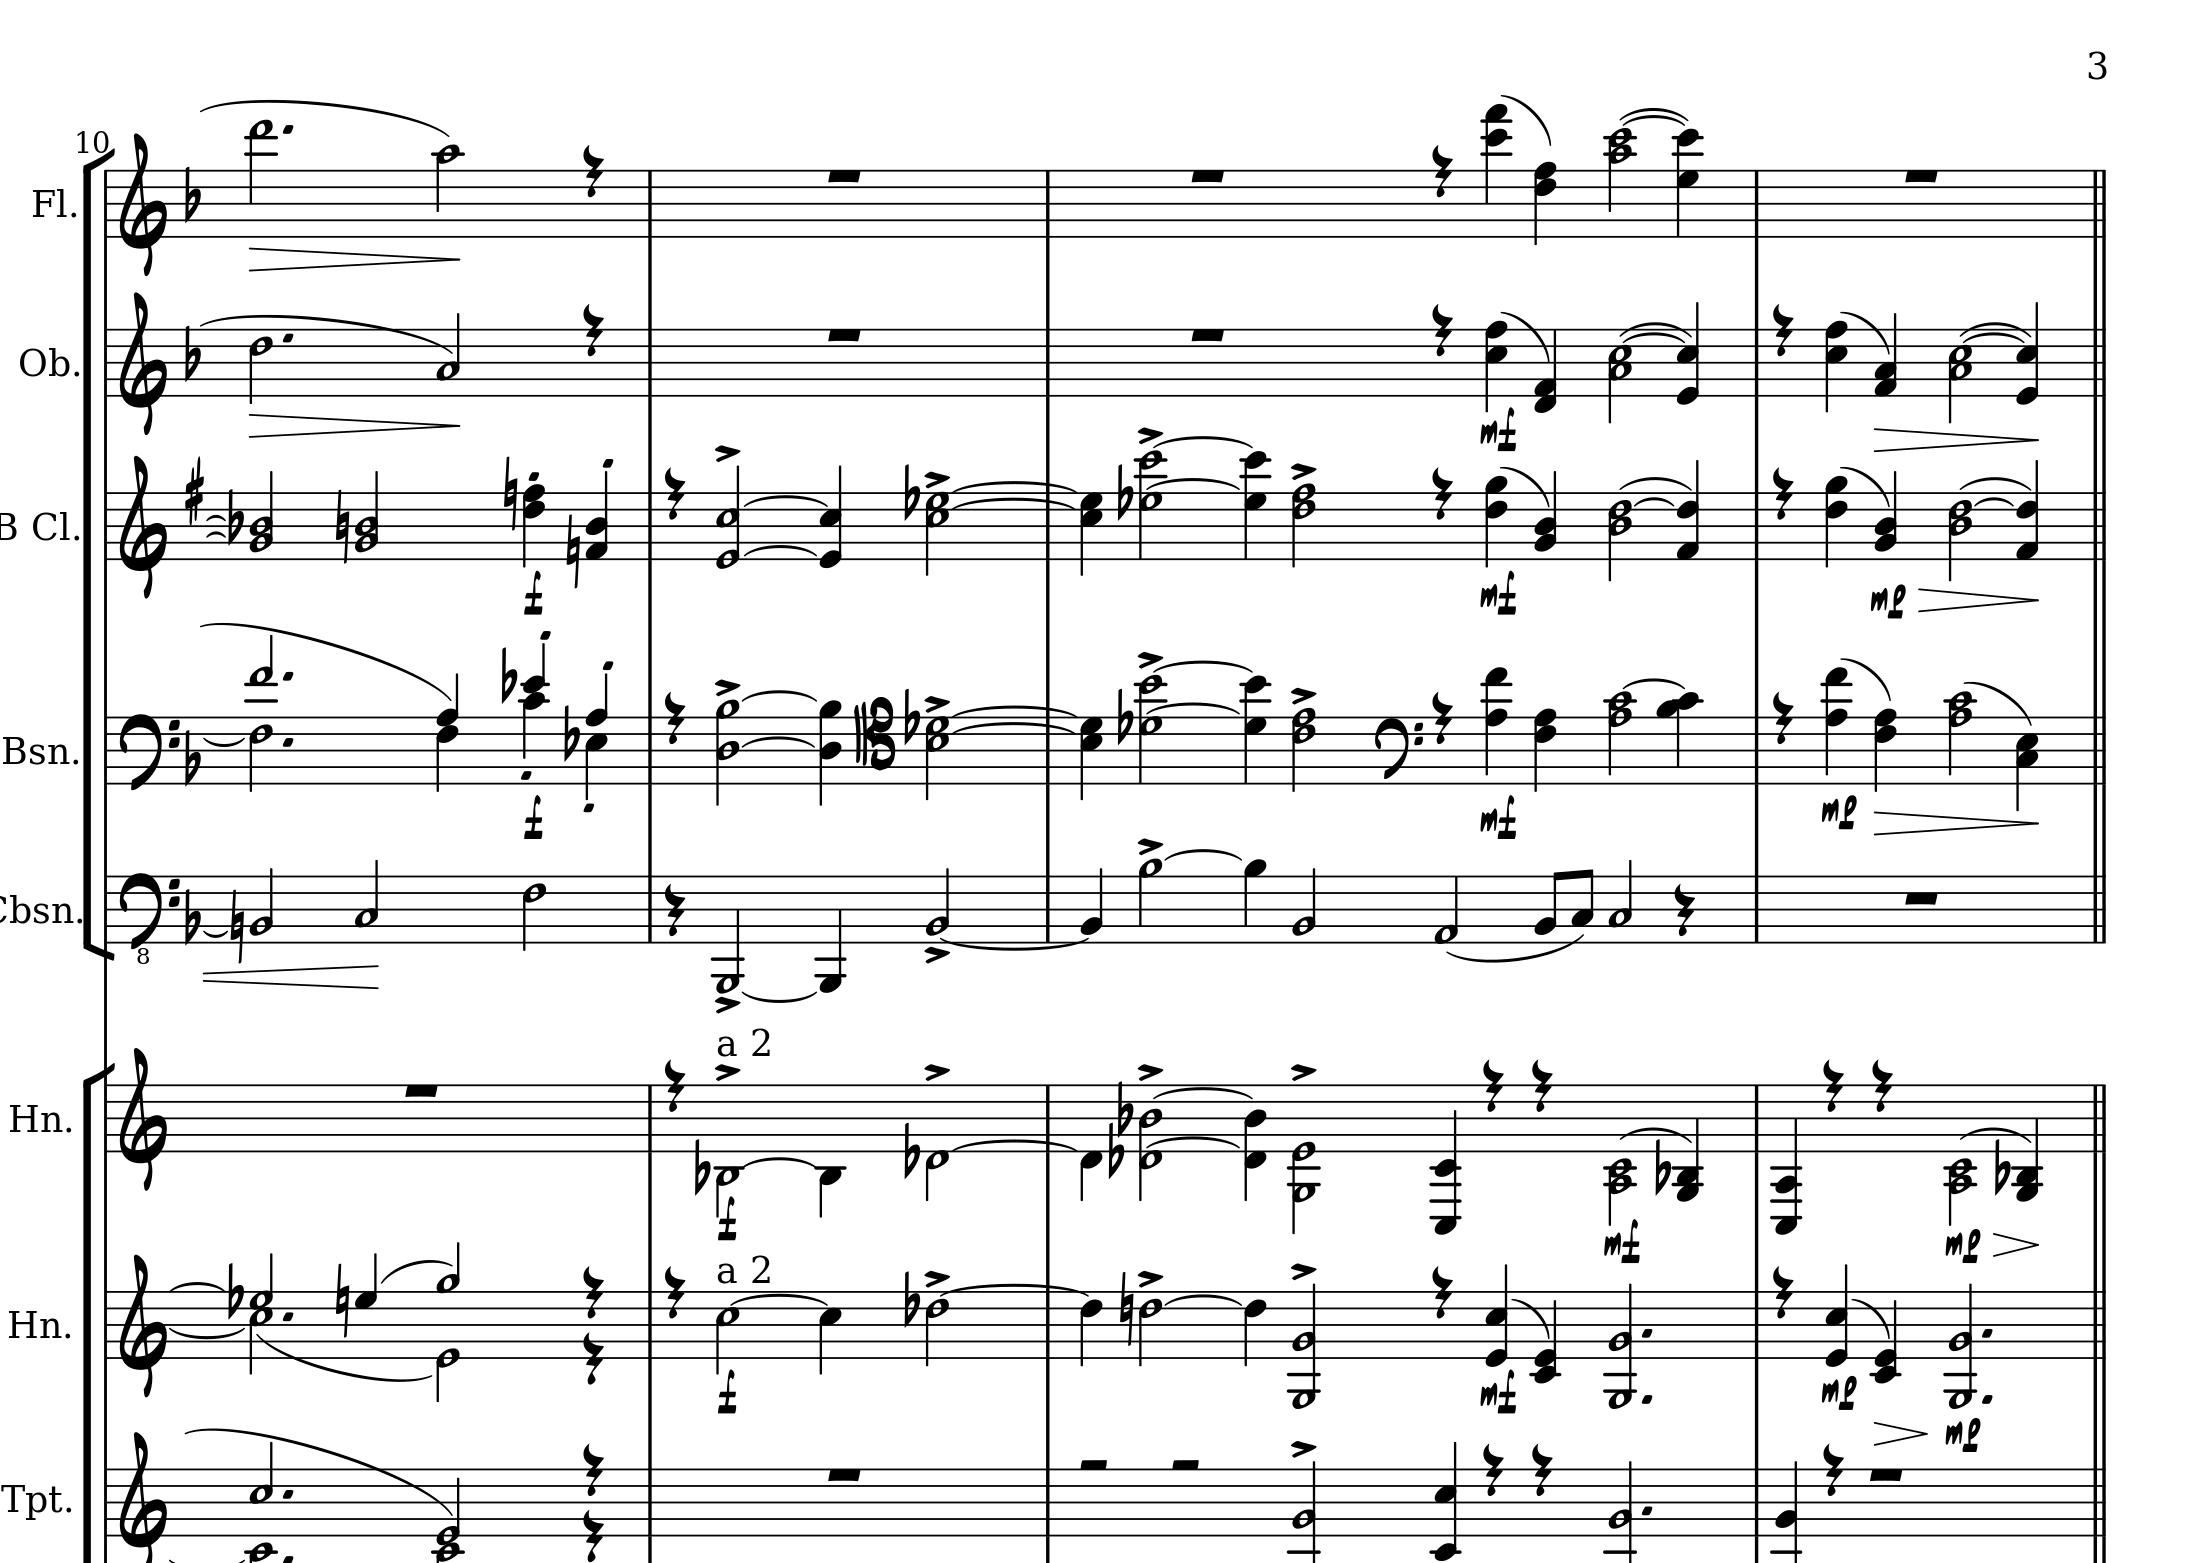0: (91, 127, 108, 154)
1: (74, 129, 90, 156)
2: (748, 1027, 771, 1057), (749, 1253, 771, 1282)
2_-1: (924, 1081, 951, 1203)
2_-1_4: (1137, 1083, 1164, 1196)
2_-4: (716, 1083, 743, 1208)
2_-5: (712, 873, 744, 991)
2_-5_0: (1287, 1083, 1323, 1235)
2_-5_2: (1287, 1282, 1323, 1409), (1944, 1282, 1978, 1411), (1605, 1282, 1639, 1409)
2_0_5: (716, 465, 741, 572)
2_0_9: (435, 1242, 462, 1399)
2_1: (1433, 873, 1462, 947)
2_10: (433, 140, 464, 240)
2_13: (245, 117, 276, 240)
2_2: (1291, 864, 1318, 946), (925, 864, 952, 944), (249, 864, 274, 946)
2_2_4: (352, 470, 381, 563), (247, 470, 274, 562)
2_3: (435, 310, 464, 399), (354, 858, 381, 946), (1607, 858, 1634, 946)
2_3_5: (1607, 326, 1636, 425), (1947, 325, 1974, 423)
2_4_6: (1605, 489, 1636, 582), (1949, 491, 1974, 582)
2_4_9: (712, 699, 741, 805)
2_5: (716, 1289, 741, 1374)
2_5_7: (247, 1252, 276, 1374)
2_6: (924, 1289, 951, 1368), (249, 328, 274, 406), (521, 875, 546, 952), (1138, 1289, 1162, 1367)
2_6_13: (244, 633, 277, 795)
2_6_8: (1291, 482, 1318, 570)
2_7_12: (1132, 450, 1171, 562), (1130, 673, 1167, 785)
2_8_10: (1602, 690, 1638, 787), (1942, 688, 1978, 783)
2_9: (1135, 858, 1164, 946)
3: (2088, 47, 2108, 81)
4_-1_4: (1242, 1081, 1270, 1203)
4_-2_0: (1528, 1291, 1563, 1385), (1873, 1291, 1905, 1384)
4_-2_5: (1426, 1441, 1463, 1561)
4_-3: (815, 1079, 846, 1220)
4_-5: (815, 873, 848, 993)
4_-5_-3: (2011, 1084, 2045, 1204), (1671, 1083, 1705, 1203)
4_-9_-2: (1428, 1083, 1463, 1238)
4_-9_-4: (1768, 1083, 1802, 1238)
4_0_5: (2011, 303, 2042, 408), (1482, 1264, 1512, 1368), (1820, 1264, 1851, 1367), (1675, 304, 1702, 406), (819, 463, 844, 570)
4_10_12: (519, 643, 550, 788)
4_1_3: (1873, 310, 1900, 399)
4_1_4: (584, 469, 611, 563)
4_1_6: (2013, 460, 2042, 563), (1675, 457, 1702, 563)
4_2: (1079, 864, 1106, 946)
4_2_4: (1873, 470, 1900, 563), (1533, 470, 1560, 562)
4_3_5: (2015, 714, 2038, 812)
4_4_9: (815, 695, 846, 803)
4_5: (819, 1287, 842, 1375)
4_5_7: (1078, 491, 1106, 577), (1078, 716, 1106, 798)
4_5_8: (584, 672, 611, 800), (1484, 320, 1512, 409), (1824, 316, 1849, 414)
4_6: (1242, 1287, 1269, 1368), (1078, 1289, 1105, 1368)
4_6_8: (435, 673, 462, 793), (519, 480, 550, 572), (1531, 707, 1560, 793), (1873, 705, 1900, 797)
4_6_9: (1482, 474, 1511, 575), (1824, 474, 1851, 570)
4_7: (354, 1250, 379, 1358)
4_7_12: (1237, 450, 1274, 563), (1235, 675, 1272, 787)
4_8_13: (1820, 663, 1854, 785), (1482, 665, 1514, 787)
4_9: (1242, 858, 1269, 946)
4_9_10: (1656, 688, 1707, 785)
8_-1: (1079, 1081, 1105, 1204)
8_2: (1531, 869, 1561, 946)
8_3: (1570, 866, 1594, 946)
Accent_above: (1133, 421, 1166, 443), (1135, 646, 1166, 668), (712, 440, 741, 462), (1287, 458, 1318, 479), (920, 467, 951, 487), (1287, 1260, 1318, 1281), (712, 677, 741, 697), (1289, 683, 1318, 704), (922, 1061, 951, 1081), (1135, 1061, 1164, 1081), (922, 1267, 951, 1287), (1289, 1436, 1318, 1456), (1135, 1267, 1162, 1287), (922, 692, 951, 710), (712, 1061, 741, 1079), (1289, 1061, 1318, 1079), (922, 946, 952, 962), (712, 996, 743, 1013), (1137, 836, 1164, 854)
Bracke: (80, 151, 118, 961)
Bsn: (2, 727, 73, 775)
Cl: (30, 506, 73, 546)
Crescendo_hairpin: (1917, 585, 2042, 612)
Diminuendo_hairpin: (1871, 810, 2040, 837), (1873, 1419, 1927, 1446)
Double_barline: (2086, 169, 2111, 237), (2086, 716, 2111, 783), (2086, 875, 2111, 942), (2086, 1467, 2111, 1534), (2086, 492, 2111, 558), (2088, 328, 2111, 396), (2088, 1291, 2110, 1357)
Fclef: (118, 710, 179, 793), (1372, 714, 1424, 787)
Fermata_above: (1993, 1231, 2040, 1257)
Final_barline: (2088, 1084, 2111, 1150)
Fl: (29, 184, 69, 223)
Flat: (181, 321, 203, 382), (183, 727, 205, 788), (1115, 685, 1135, 749), (1115, 462, 1135, 524), (181, 162, 201, 223), (183, 885, 203, 946), (562, 700, 580, 765), (902, 462, 920, 523), (902, 1120, 920, 1181), (902, 1269, 920, 1330), (902, 687, 920, 746), (1653, 1137, 1671, 1196), (501, 643, 518, 705), (1106, 1120, 1123, 1182), (227, 1260, 244, 1323), (1115, 1079, 1133, 1135), (227, 485, 244, 546), (1993, 1137, 2010, 1198), (694, 1138, 710, 1196)
Gclef: (117, 289, 169, 436), (117, 453, 169, 599), (117, 130, 167, 277), (118, 1252, 169, 1399), (118, 1045, 169, 1191), (118, 1429, 169, 1563)
Hn: (10, 1100, 64, 1137), (7, 1306, 63, 1341)
Lower_Fclef: (118, 869, 179, 968)
Natural: (563, 511, 582, 589), (502, 453, 519, 535), (333, 1260, 350, 1341), (333, 485, 350, 565), (228, 886, 245, 964), (1118, 1270, 1133, 1346)
Ob: (19, 343, 73, 381)
Rests1: (1186, 325, 1230, 347), (824, 325, 866, 347), (399, 1079, 442, 1101), (824, 1463, 866, 1485), (1186, 166, 1230, 186), (1900, 166, 1944, 186), (1900, 888, 1942, 908), (824, 166, 864, 186), (1866, 1463, 1907, 1483)
Rests2: (1076, 1453, 1111, 1477), (1167, 1453, 1204, 1475)
Rests4: (1670, 880, 1698, 939), (1528, 1057, 1555, 1115), (1819, 1057, 1846, 1115), (1528, 1441, 1555, 1499), (1429, 463, 1455, 523), (1769, 463, 1795, 523), (661, 688, 687, 748), (1429, 688, 1455, 748), (1769, 688, 1795, 748), (1869, 1056, 1895, 1115), (580, 1330, 606, 1389), (1771, 1264, 1797, 1323), (1429, 301, 1455, 359), (1769, 301, 1795, 359), (661, 465, 687, 523), (661, 881, 687, 939), (1480, 1057, 1506, 1115), (661, 1264, 687, 1321), (1480, 1441, 1506, 1499), (1820, 1441, 1846, 1499), (580, 144, 606, 200), (1429, 144, 1455, 200), (580, 303, 606, 359), (580, 1441, 606, 1497), (580, 1264, 606, 1319), (580, 1507, 606, 1563), (1431, 1264, 1455, 1323), (663, 1057, 687, 1113)
Sharp: (183, 453, 205, 526)
Single_barline: (1747, 1467, 1769, 1536), (1747, 326, 1768, 396), (98, 875, 117, 947), (639, 169, 660, 235), (639, 328, 660, 394), (1747, 1291, 1768, 1357), (1747, 169, 1766, 237), (1039, 328, 1057, 396), (1747, 875, 1766, 942), (1039, 1084, 1057, 1152), (1039, 169, 1057, 235), (1747, 716, 1766, 781), (1039, 875, 1057, 941), (1747, 1084, 1766, 1150), (1040, 1292, 1059, 1358), (641, 1468, 660, 1534), (1039, 1468, 1057, 1534), (100, 1083, 117, 1152), (98, 169, 115, 237), (98, 328, 115, 396), (1749, 491, 1766, 558), (100, 1291, 117, 1358), (643, 716, 660, 781), (641, 875, 658, 941), (641, 1084, 658, 1150), (100, 1468, 117, 1534), (100, 717, 117, 781), (641, 1291, 658, 1355), (98, 491, 113, 558), (643, 492, 658, 557)
Slur: (198, 621, 455, 704), (200, 98, 450, 140), (200, 315, 450, 357), (252, 1331, 431, 1384), (1445, 934, 1585, 961), (1964, 678, 2033, 726), (1499, 91, 1551, 145), (1499, 308, 1551, 360), (1837, 656, 1895, 700), (941, 1282, 1089, 1299), (1841, 308, 1891, 355), (1839, 463, 1891, 507), (1501, 463, 1551, 507), (381, 1259, 453, 1284), (1511, 1294, 1551, 1338), (947, 479, 1078, 492), (947, 704, 1078, 717), (1851, 1294, 1891, 1336), (951, 721, 1076, 734), (951, 939, 1088, 951), (951, 497, 1078, 509), (1961, 1123, 2033, 1143), (952, 1138, 1074, 1150), (1150, 435, 1255, 448), (1150, 1086, 1255, 1100), (726, 1291, 831, 1304), (1154, 660, 1255, 673), (1621, 1125, 1693, 1143), (1144, 700, 1242, 714), (1961, 475, 2035, 492), (1961, 318, 2032, 335), (743, 494, 831, 507), (1144, 479, 1243, 491), (1622, 475, 1690, 492), (1147, 1137, 1243, 1149), (1619, 320, 1693, 335), (739, 688, 819, 702), (739, 990, 819, 1003), (167, 1326, 245, 1340), (744, 545, 819, 558), (1164, 847, 1243, 859), (743, 1155, 819, 1167), (1166, 1294, 1242, 1306), (1622, 330, 1688, 343), (1621, 677, 1687, 690), (741, 736, 815, 748), (1962, 330, 2027, 343), (1621, 113, 1687, 125), (169, 1281, 227, 1291), (200, 736, 245, 748), (1636, 494, 1675, 507), (1976, 494, 2015, 507), (200, 929, 228, 937)
Tensor_Cclef: (853, 695, 895, 788)
Tpt: (2, 1478, 63, 1521)
dot: (281, 118, 298, 137), (281, 1485, 298, 1500), (281, 734, 296, 749), (1639, 1324, 1654, 1340), (1639, 1390, 1654, 1406), (1979, 1390, 1994, 1406), (281, 666, 294, 683), (281, 330, 296, 343), (281, 1308, 294, 1323), (1979, 1324, 1994, 1338), (1639, 1502, 1654, 1516), (281, 1549, 296, 1561)
f: (521, 793, 545, 841), (521, 568, 543, 616), (716, 1368, 738, 1416), (716, 1196, 738, 1242)
mf: (1479, 793, 1521, 841), (1479, 568, 1519, 617), (1479, 404, 1517, 453), (1479, 1368, 1517, 1416), (1604, 1220, 1643, 1265)
mp: (1868, 582, 1908, 621), (1819, 793, 1861, 831), (1820, 1372, 1857, 1411), (1944, 1228, 1983, 1264), (1944, 1416, 1983, 1451)
